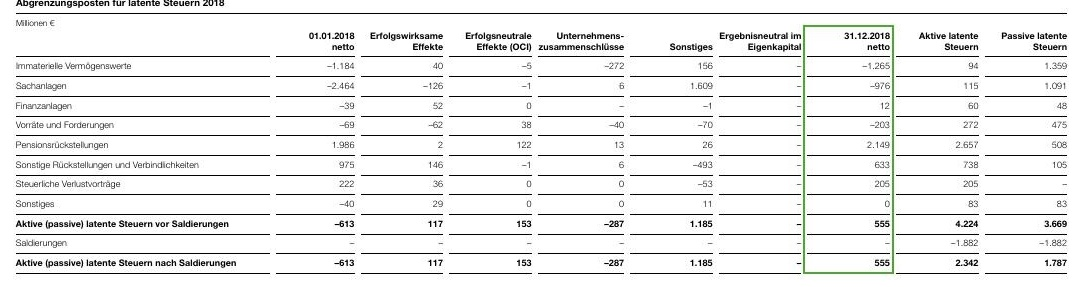table: (0, 0, 1085, 287)
